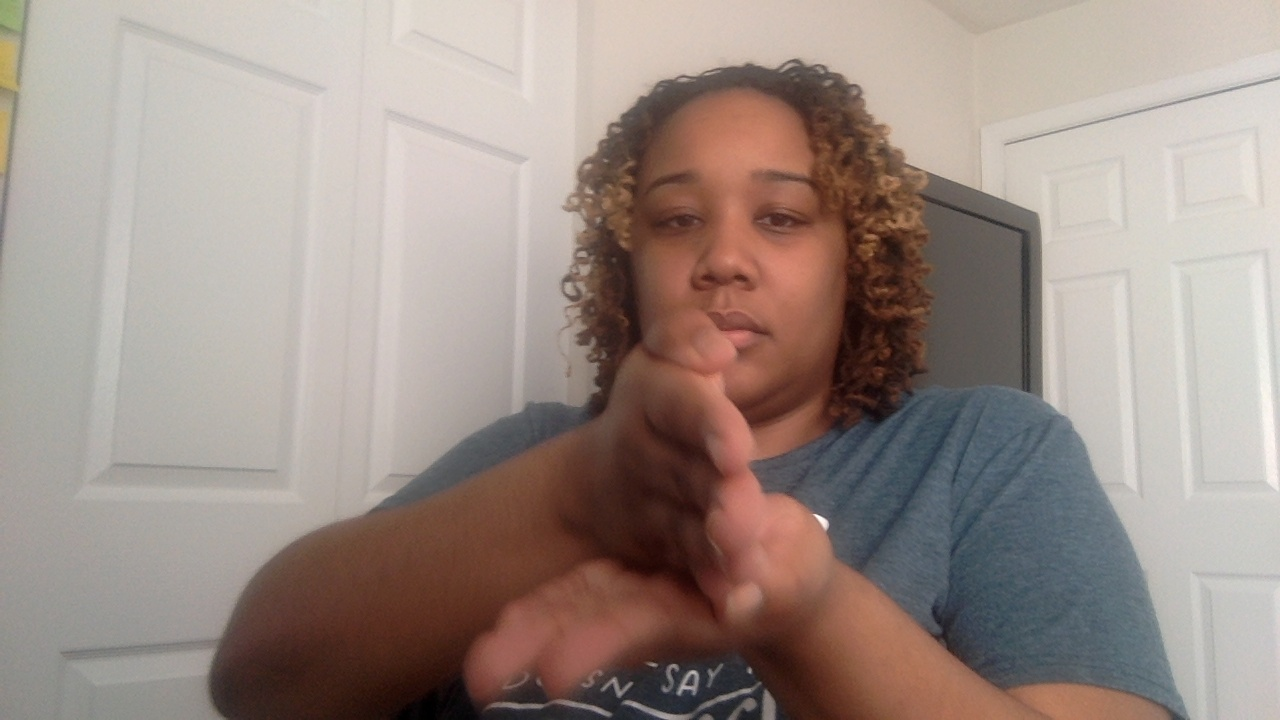stop: (465, 304, 857, 717)
